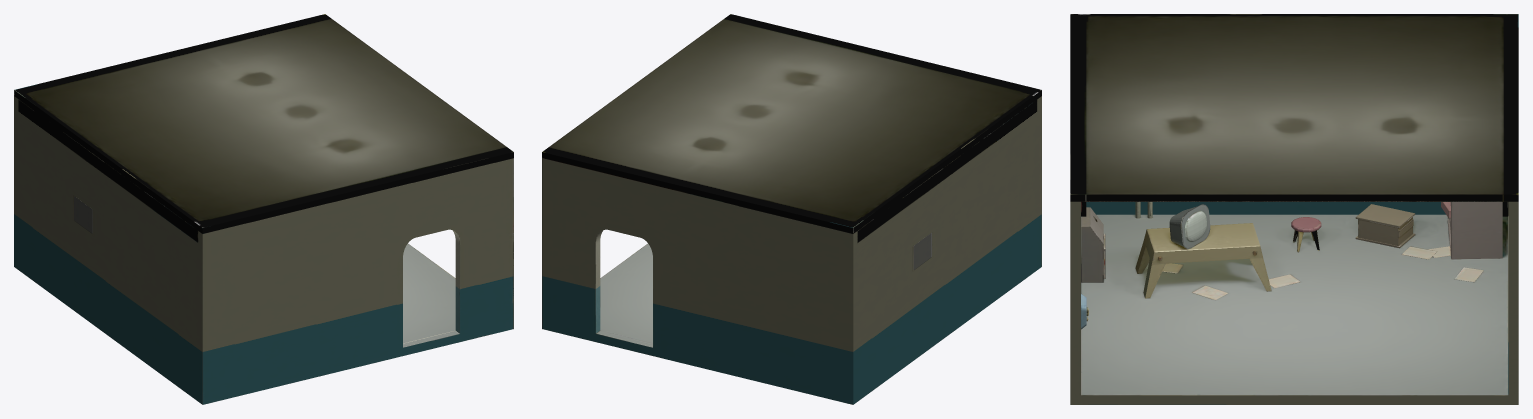
File: SheldUp.fbx
3 renders of one model, left to right at view 1: azimuth 30°, elevation 25°; view 2: azimuth 150°, elevation 25°; view 3: azimuth 270°, elevation 25°, orthographic. The views are drawn at different scales.
Visible parts, largest first — view 1: Sheld.001; view 2: Sheld.001; view 3: Sheld.001.
Part boxes in pixels (bbox=[...]): Sheld.001: bbox=[14, 14, 513, 404]; Sheld.001: bbox=[542, 14, 1041, 404]; Sheld.001: bbox=[1070, 14, 1518, 404].
Size of the model in its own units: 400 by 217 by 420.
1 material, 1 textured.
